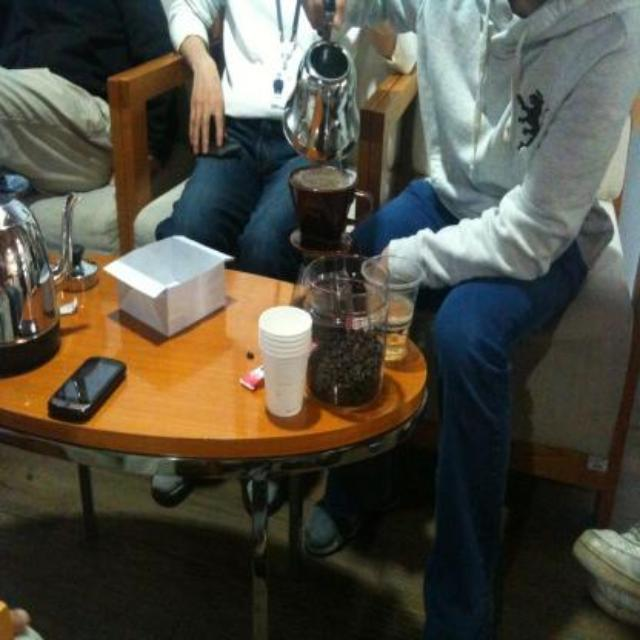Smartphone: (46, 336, 130, 440)
